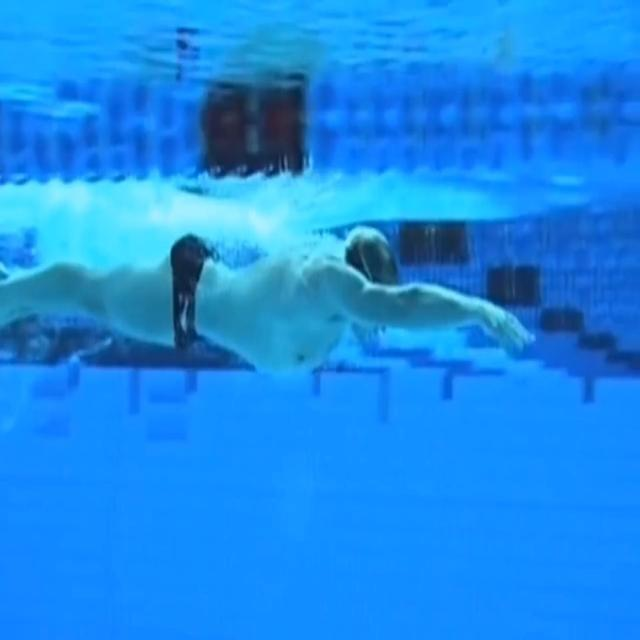Swimming: (2, 230, 534, 378)
